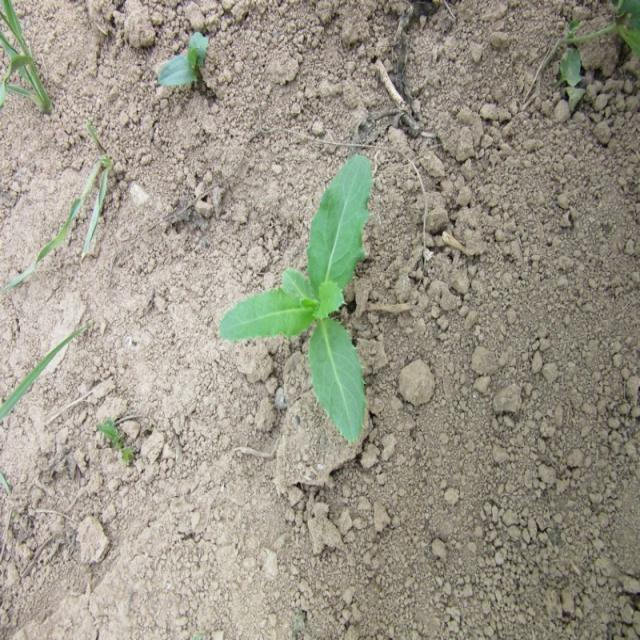cs: (218, 143, 376, 456)
